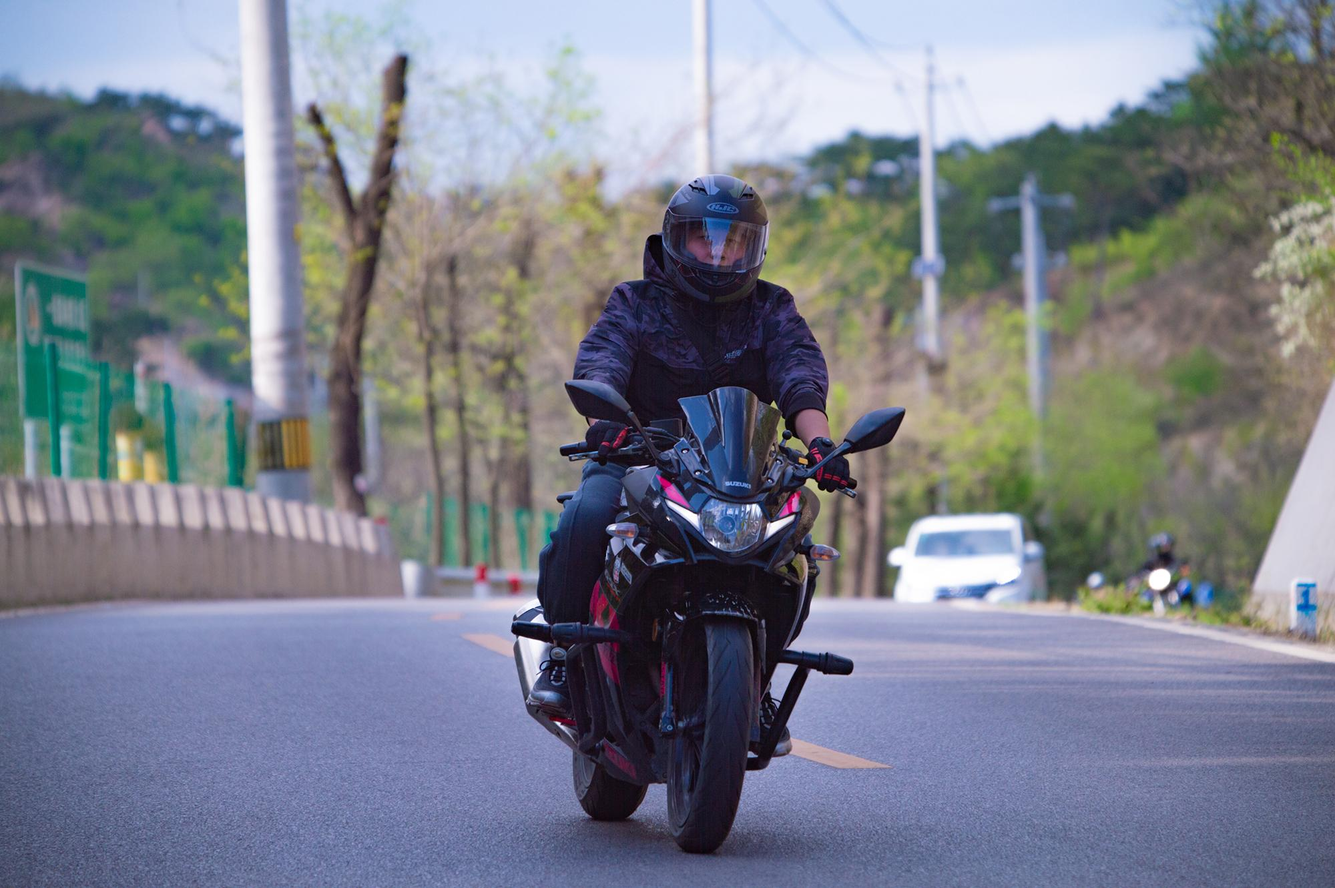helmet: (661, 173, 771, 307)
